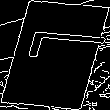L_E: (5, 36, 105, 74)
